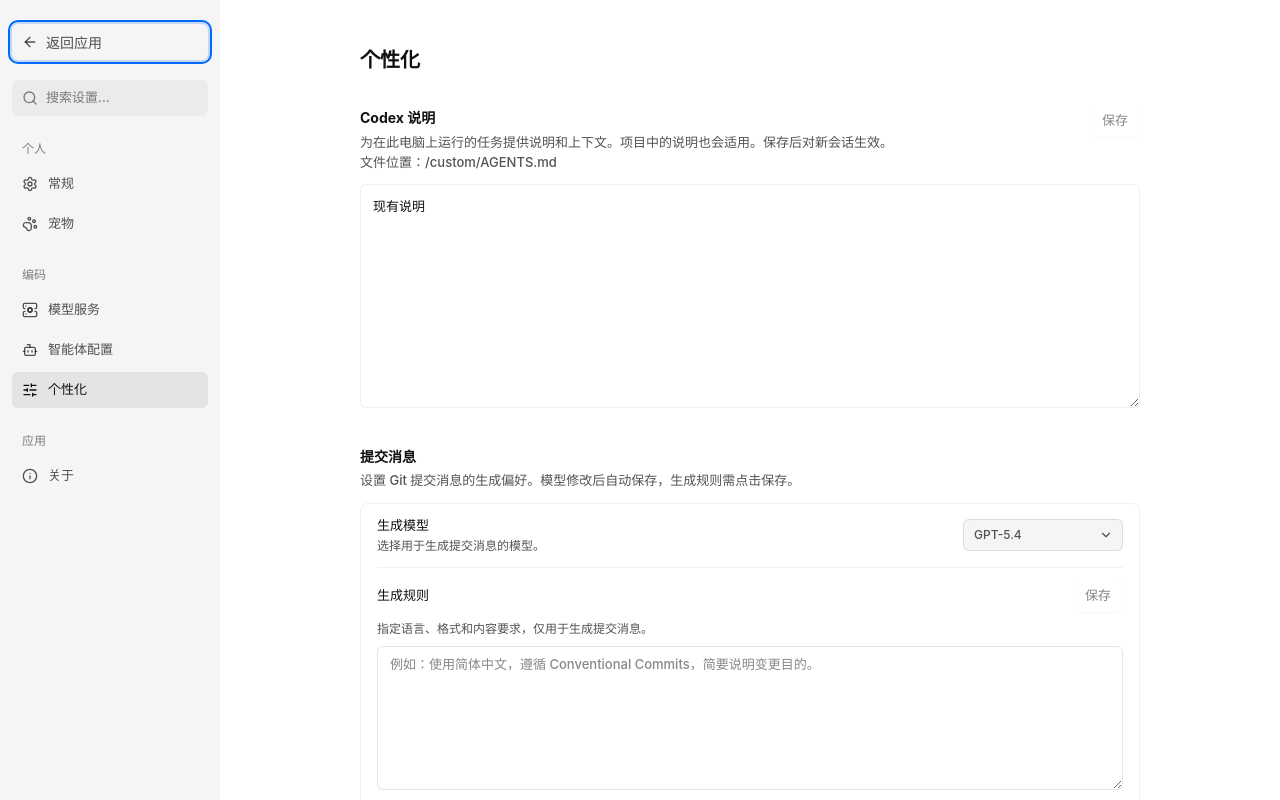
Test: GlobalSettingsPage › saves generation rules only after clicking save
Expected: the heading "个性化" is shown, [360,48,420,72]
Type "新的提交规则" into the text box named "提交提示词" at (750, 718), box [377,646,1123,790]
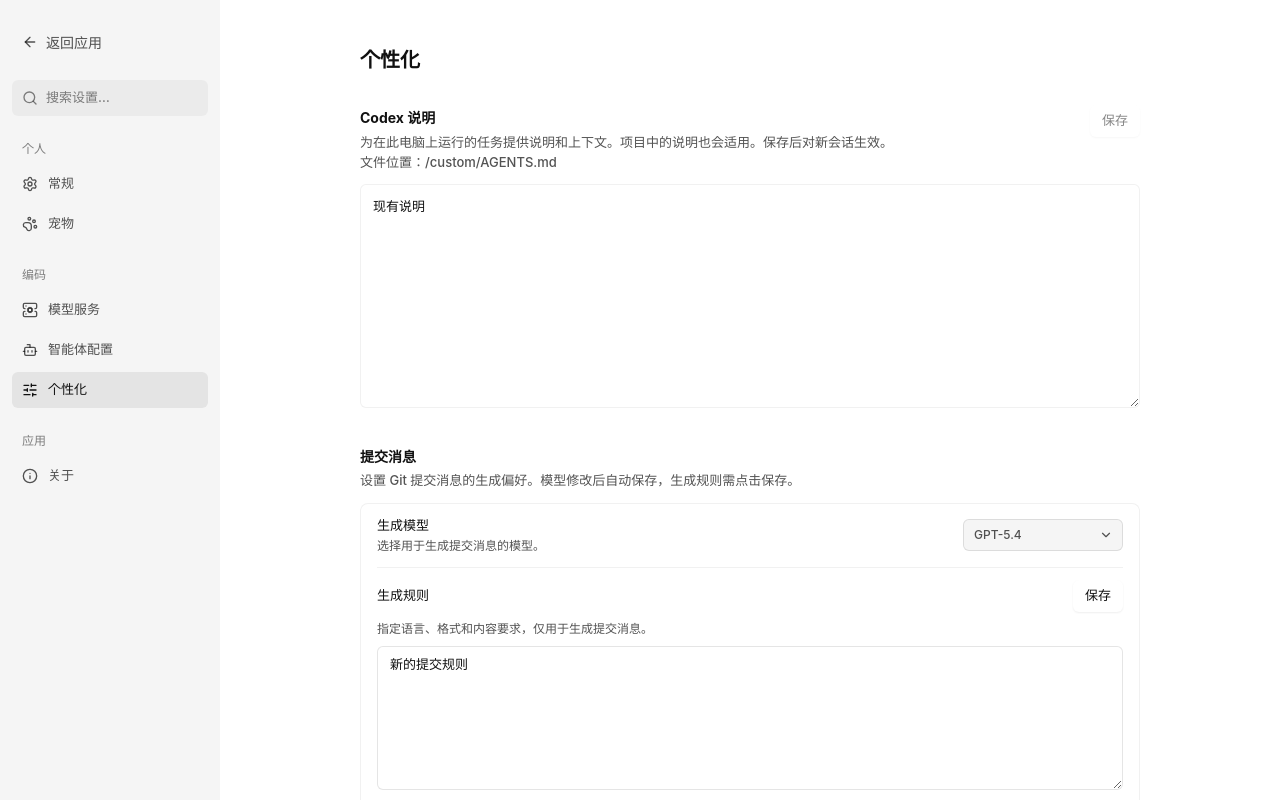
Click the 2nd button "保存" at (1098, 596), box [1073,580,1123,612]
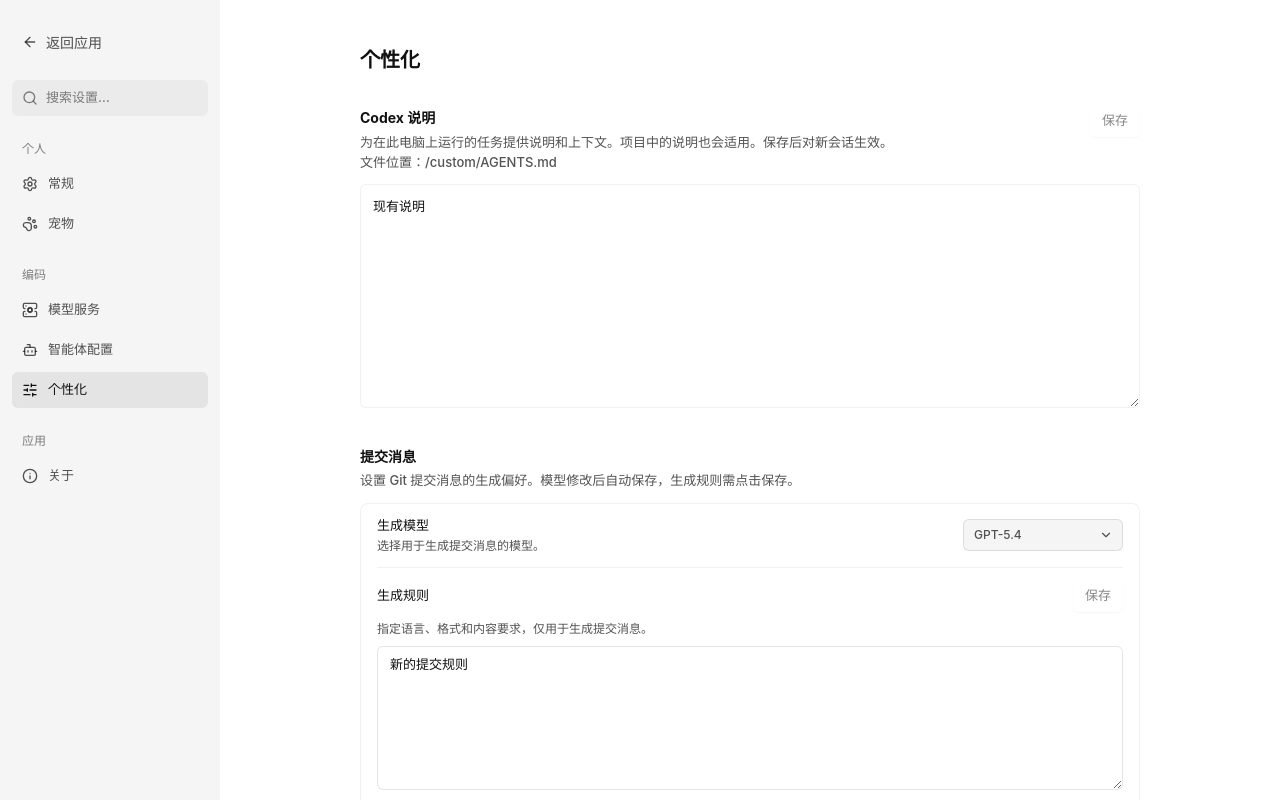
Now the 2nd button "保存" is disabled, box [1073,580,1123,612]
